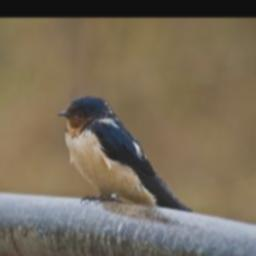Swallow: (56, 94, 193, 213)
